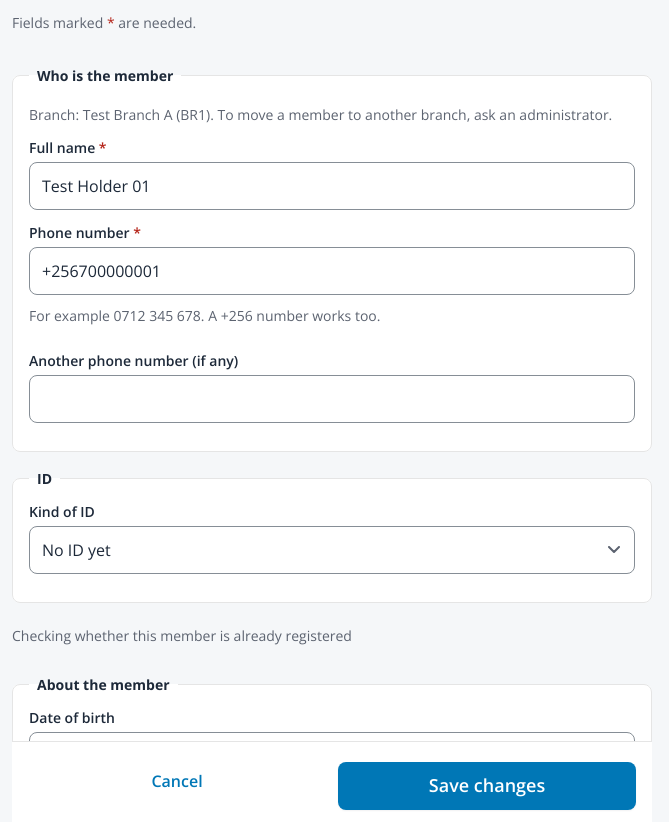
Test case: the shared phone box › does hold an edit that changes the phone to one another member has
Replace the text in the field labelled "Phone number *" with "0700000002" at (332,271), box [29,247,635,295]
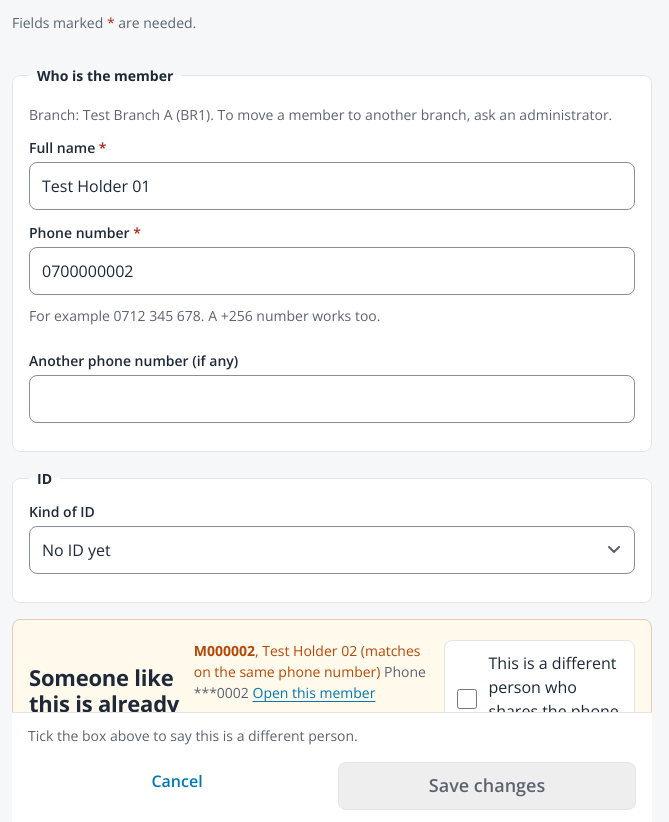
Expected: the checkbox labelled "This is a different person who shares the phone number" is shown, [456,689,476,709]
Expected: the button "Save changes" is disabled, [338,762,636,810]
